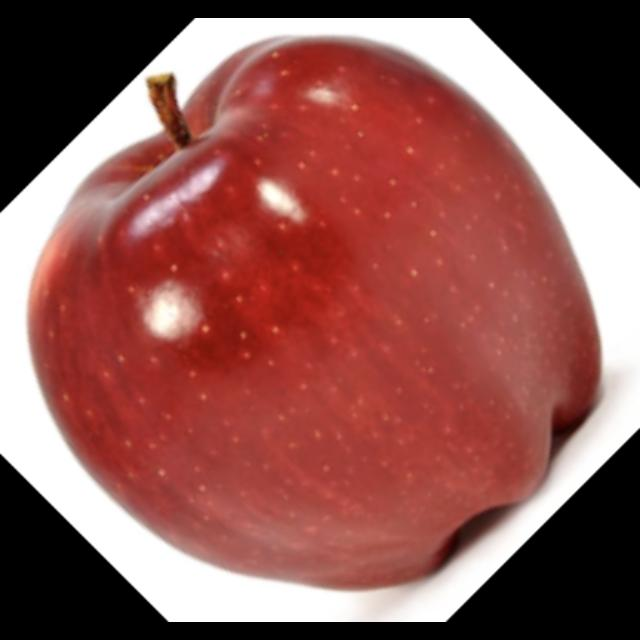Apel Segar: (22, 34, 603, 594)
